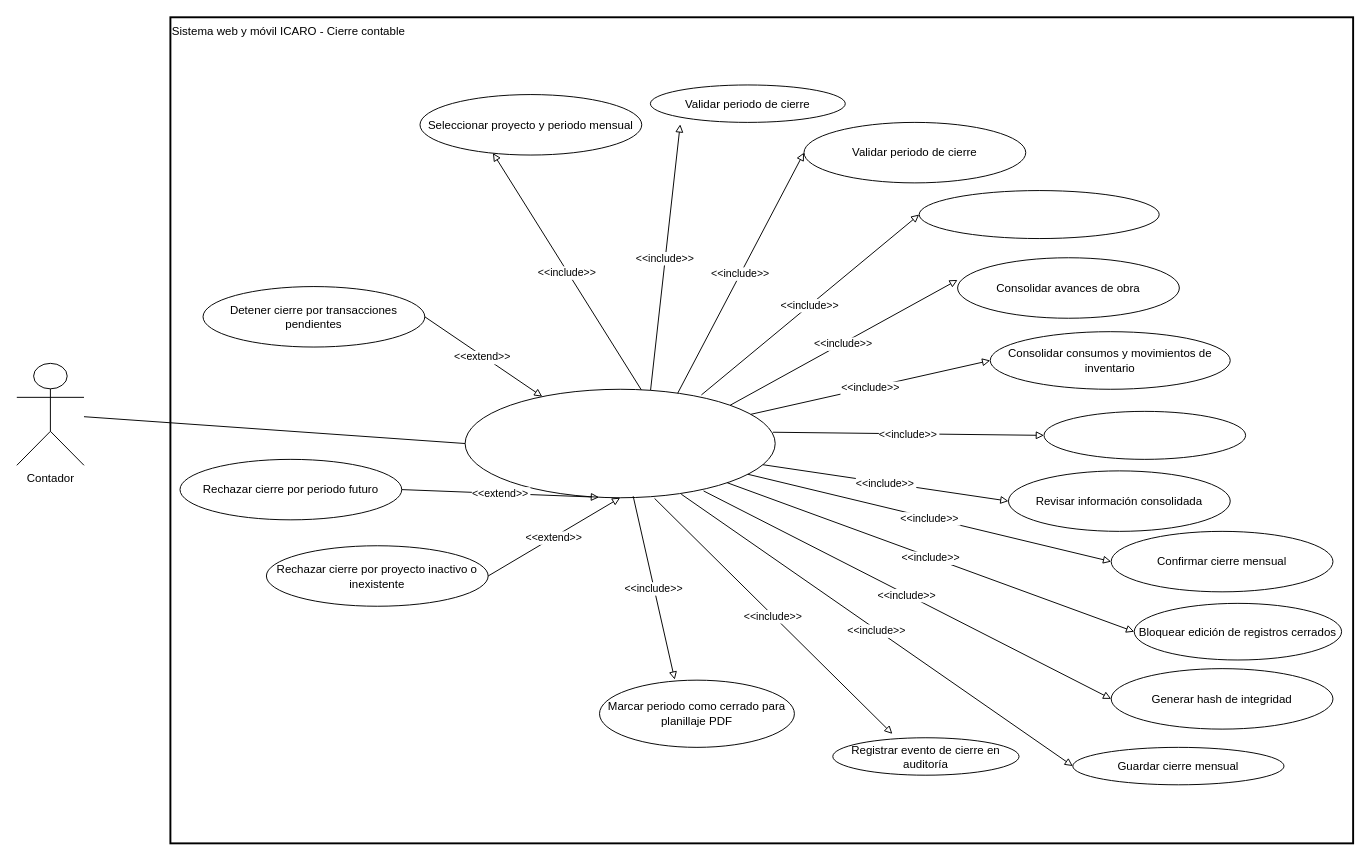
Image size: 1371x861. Some labels were removed from this diagram. The shapes that lost their labels are listed below. From the top down, each one's centre as x and y in pixels, then its label:
At (1038,214): "Consultar transacciones pendientes del periodo".
At (619,443): "Ejecutar cierre contable mensual".
At (1144,434): "Consolidar gastos de bodega y compras".
